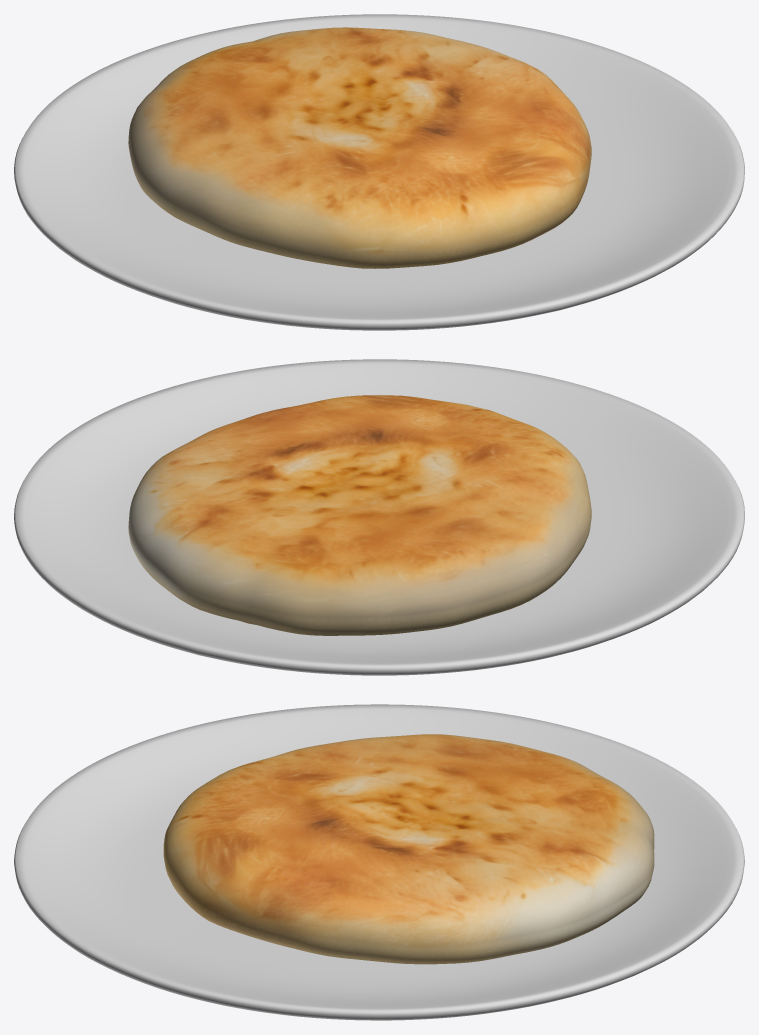
Rendered from white_ceramic_plate.glb.
3 renders of one model, top to bottom at view 1: azimuth 30°, elevation 25°; view 2: azimuth 150°, elevation 25°; view 3: azimuth 270°, elevation 25°, orthographic.
Parts seen in each view (by area): view 1: model; view 2: model; view 3: model.
Part boxes in pixels (<box>): model: <box>14,14,744,330</box>; model: <box>14,359,744,675</box>; model: <box>14,704,744,1020</box>.
Size of the model in its own units: 1.9 by 0.2433 by 1.9.
Materials: 2 (1 with a texture image).
